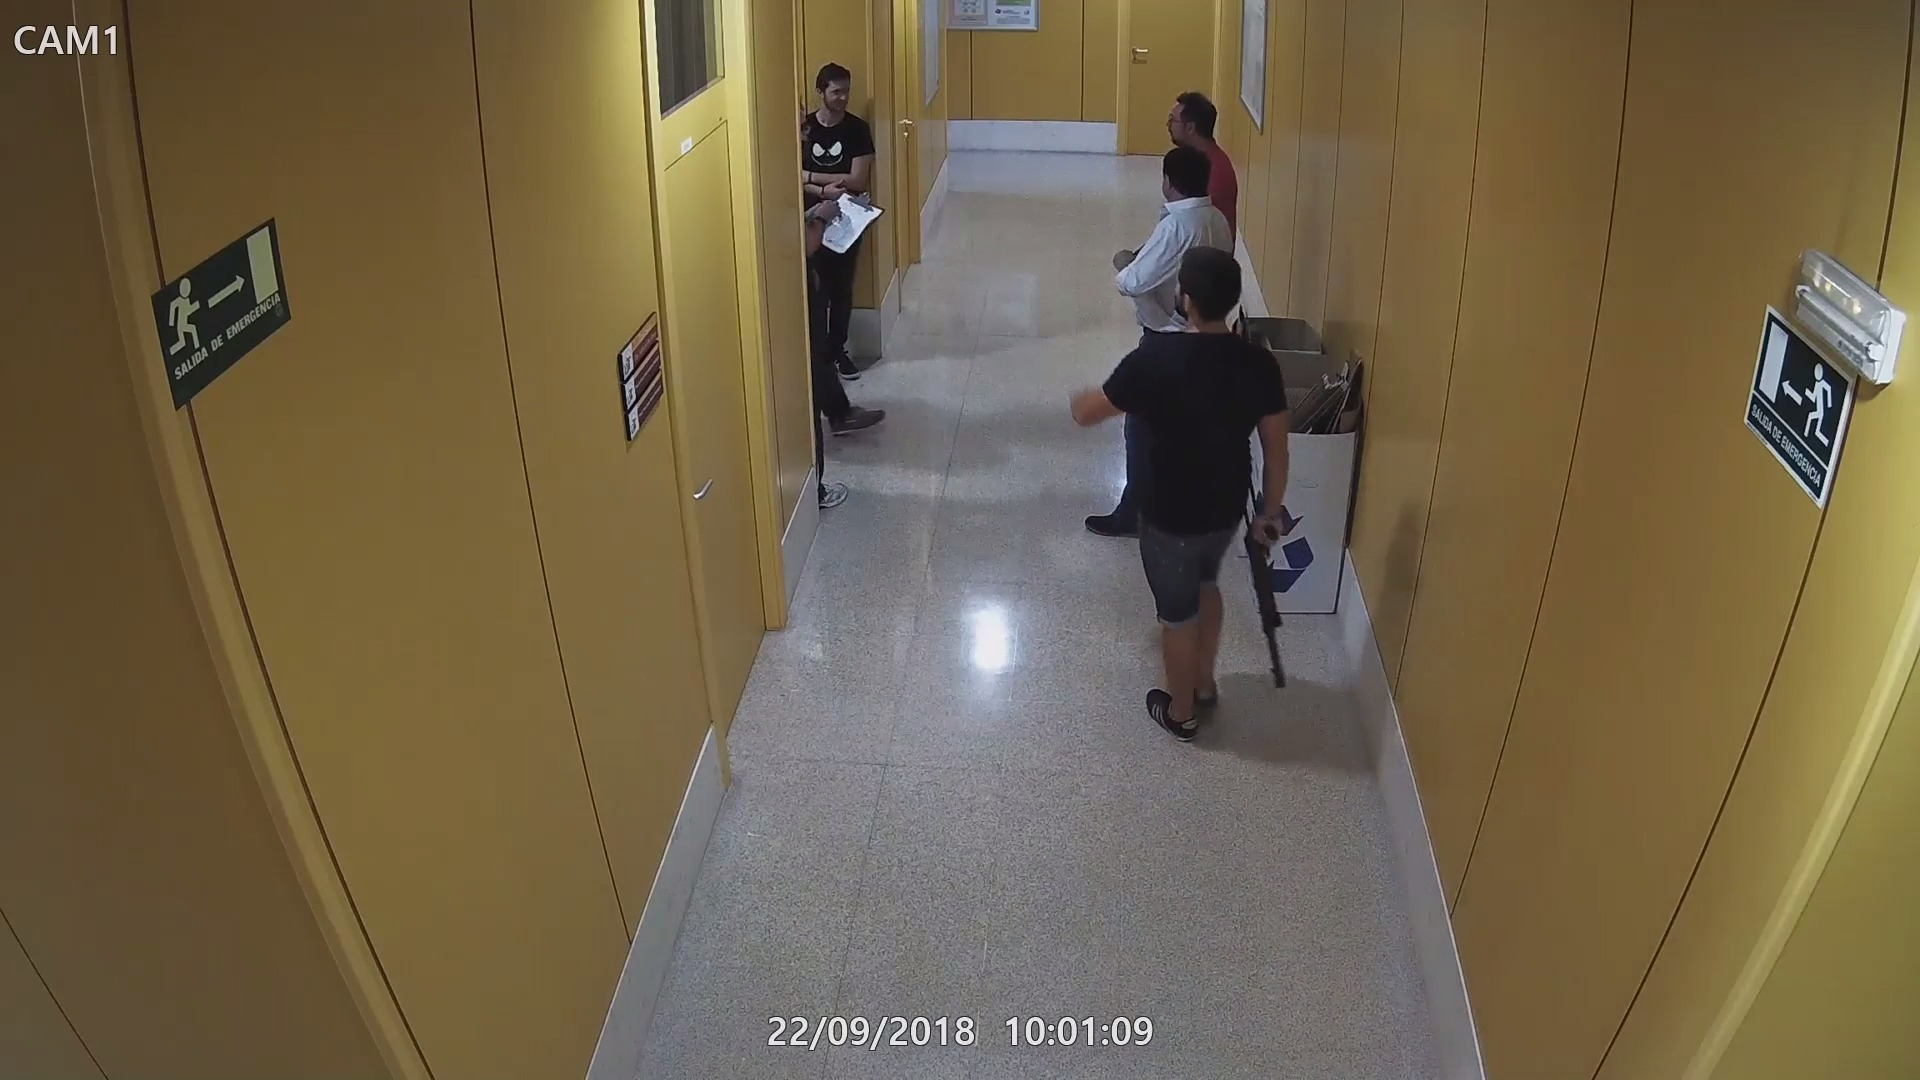Short_rifle: (1244, 512, 1294, 690)
